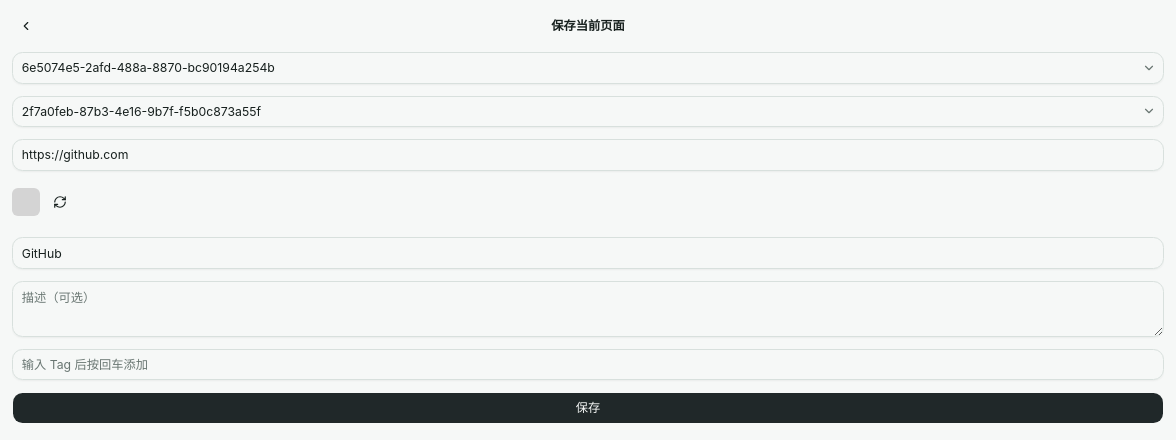
SaveBookmarkView › 保存有效书签 → 写入 DB 并关闭 popup
Expected: the field showing "https://github.com" is shown, [12,139,1164,170]
What coordinates should you click on to do the following:
click the button "保存"
I would click on:
 (588, 408)
Its box is [12,392,1164,424].
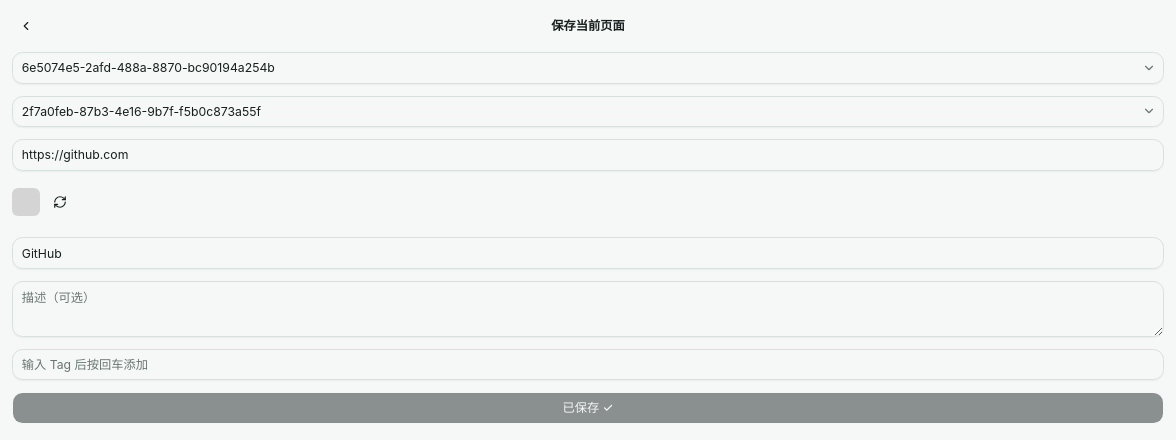
Expected: the button "已保存 ✓" is shown, [12,392,1164,424]
